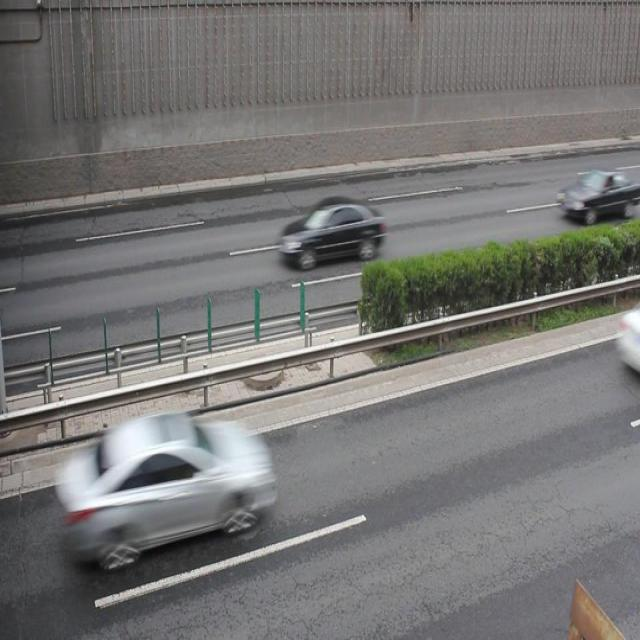car: (65, 416, 269, 568), (279, 200, 382, 266), (554, 168, 632, 223)
